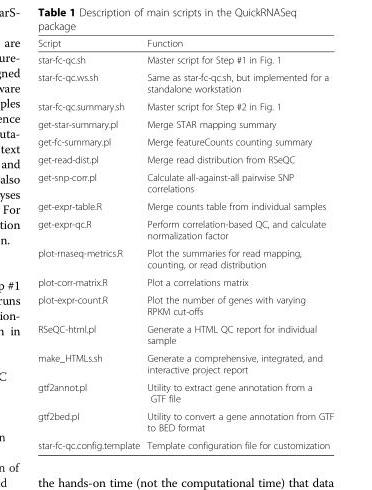table: (37, 37, 333, 450)
table column: (142, 37, 333, 450), (37, 37, 142, 450)
table column header: (37, 37, 333, 50)
table row: (37, 243, 333, 273), (37, 406, 333, 436), (37, 68, 333, 97), (37, 168, 333, 197), (37, 214, 333, 243), (37, 290, 333, 319), (37, 319, 333, 348), (37, 348, 333, 377), (37, 377, 333, 406), (37, 50, 333, 68), (37, 114, 333, 132), (37, 132, 333, 150), (37, 150, 333, 168), (37, 97, 333, 114), (37, 197, 333, 214), (37, 273, 333, 290), (37, 436, 333, 450), (37, 37, 333, 50)
